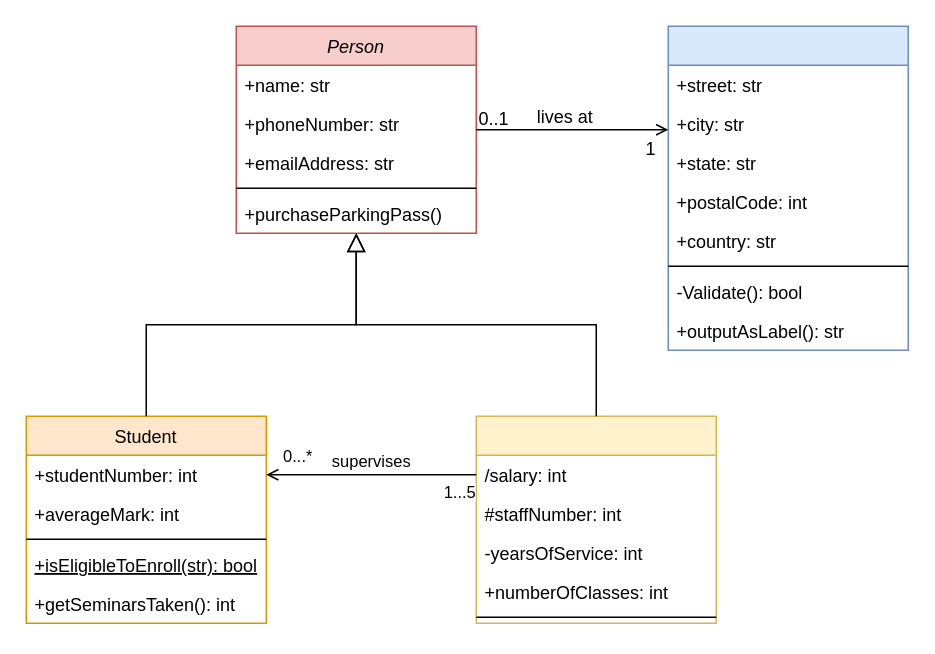
Image size: 935x654. Some labels were removed from this diagram. The box of each missing label's shape, as (x1, y1, x2, y2) in pixels:
Address: (667, 25, 908, 350)
Professor: (475, 415, 716, 623)
